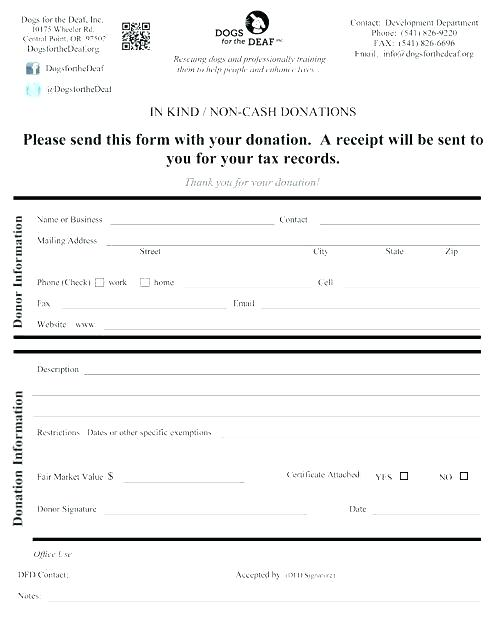checkbox: (137, 275, 153, 290), (457, 469, 472, 485), (94, 277, 108, 290), (398, 469, 410, 482)
textline: (28, 400, 484, 421), (29, 380, 484, 401), (40, 587, 477, 607), (82, 359, 483, 379), (106, 230, 489, 249), (100, 496, 334, 519), (258, 294, 482, 314), (105, 229, 291, 249), (108, 208, 278, 229), (316, 209, 483, 229), (56, 294, 230, 313), (119, 465, 247, 487), (369, 497, 489, 519), (338, 273, 483, 291), (178, 275, 314, 290), (291, 227, 362, 251), (362, 230, 426, 251), (426, 233, 483, 249)
